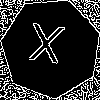X: (26, 23, 65, 73)
